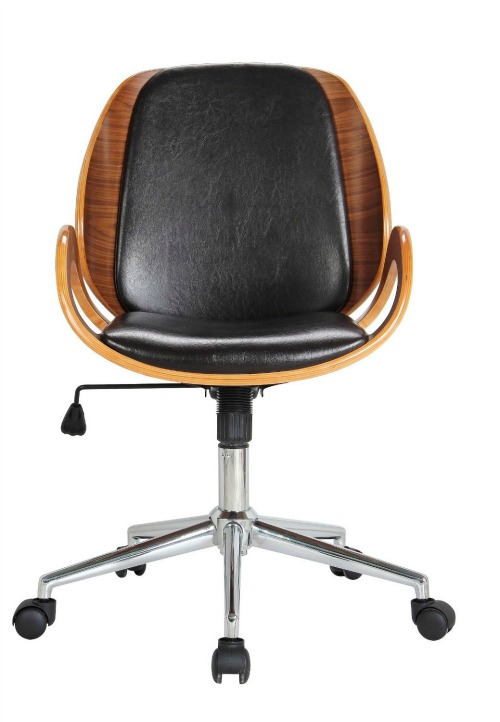chairs: (11, 61, 464, 686)
